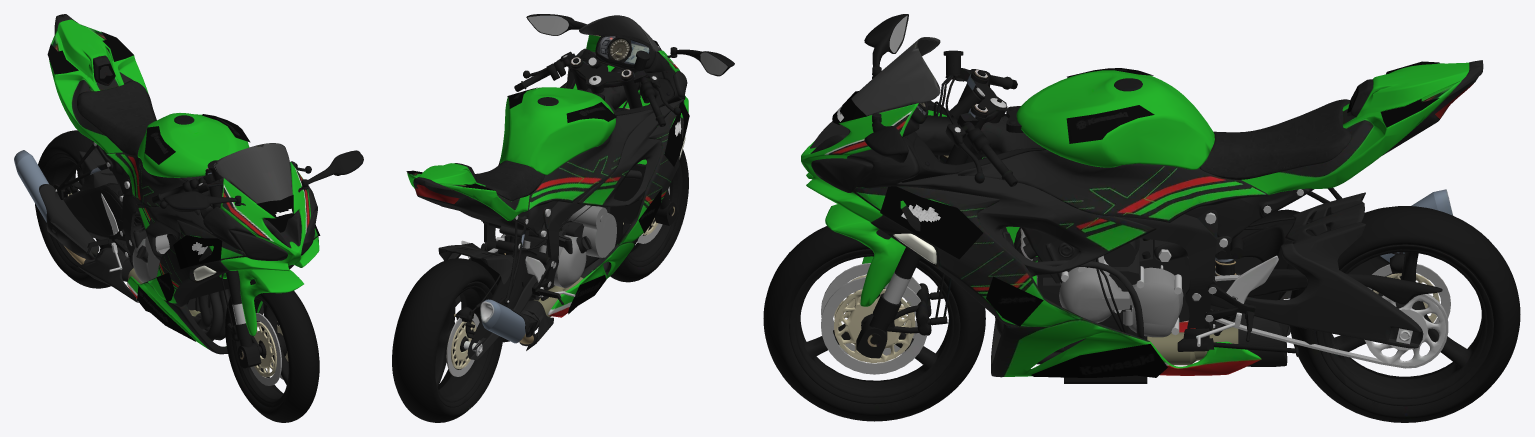
3 views of the same model, side by side, from view 1: azimuth 30°, elevation 25°; view 2: azimuth 150°, elevation 25°; view 3: azimuth 270°, elevation 25° (orthographic). The views are drawn at different scales.
Parts seen in each view (by area): view 1: body, wheel_F, wheel_R, wheel_F_fix; view 2: body, wheel_R, wheel_F_fix, wheel_F; view 3: body, wheel_R, wheel_F, wheel_F_fix.
Part boxes in pixels (x1=…): body: x1=14, y1=14, x2=363, y2=385; wheel_F: x1=225, y1=279, x2=319, y2=422; wheel_R: x1=35, y1=130, x2=142, y2=288; wheel_F_fix: x1=152, y1=161, x2=311, y2=378; body: x1=406, y1=14, x2=734, y2=376; wheel_R: x1=392, y1=258, x2=503, y2=422; wheel_F_fix: x1=514, y1=56, x2=680, y2=235; wheel_F: x1=609, y1=149, x2=688, y2=282; body: x1=801, y1=14, x2=1483, y2=383; wheel_R: x1=1290, y1=206, x2=1520, y2=422; wheel_F: x1=763, y1=226, x2=985, y2=421; wheel_F_fix: x1=832, y1=69, x2=1023, y2=363.
Size of the model in its own units: 0.8707 by 1.11 by 2.03.
Materials: 4 (4 with a texture image).
